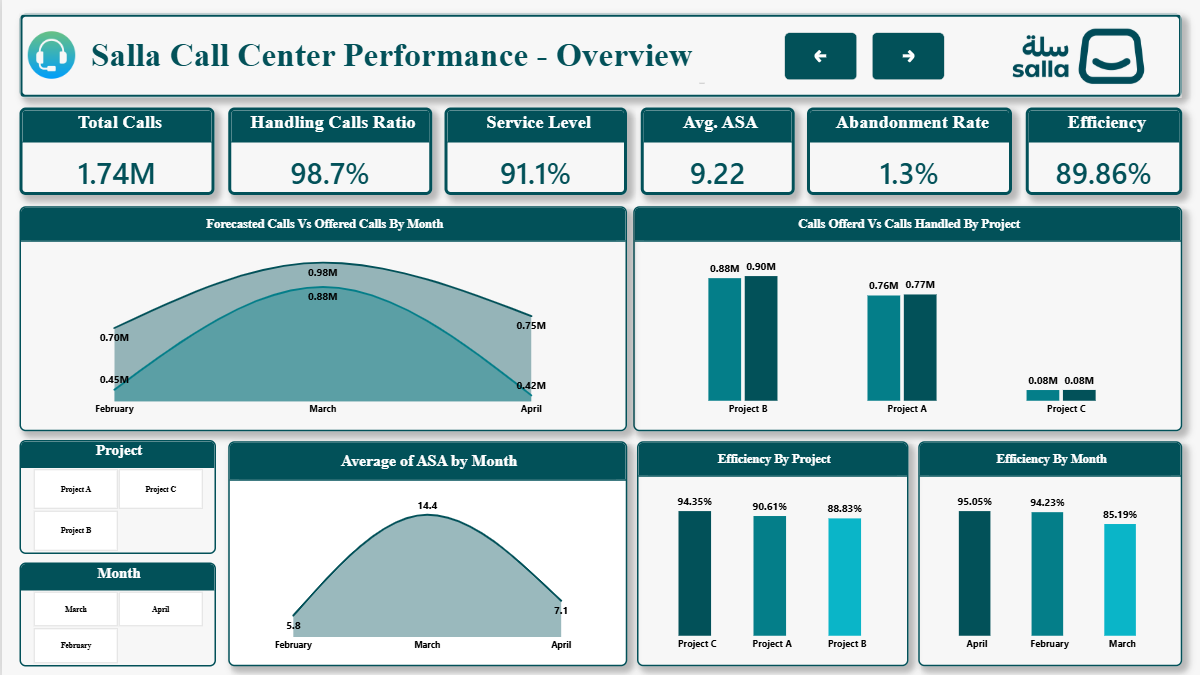

This screenshot's page, from the dashboard's own definition file:
{"tool":"powerbi","page":{"name":"Overview","canvas":[1920,1080],"ordinal":1},"visuals":[{"type":"cardVisual","title":"Handling Calls Ratio","fields":{"Data":["_Measure.Handlling Calls Ratio"]},"box":[361.2,172,326,140],"z":0},{"type":"cardVisual","title":"Service Level","fields":{"Data":["_Measure.Serves Level"]},"box":[708.4,172,292,140],"z":1000},{"type":"shape","box":[28,22,1860,134],"z":2000},{"type":"cardVisual","title":"Abandonment Rate","fields":{"Data":["_Measure.ABD Rate"]},"box":[1288.8,172,328,140],"z":3000},{"type":"cardVisual","title":"Avg. ASA","fields":{"Data":["Avg(Sallah.ASA)"]},"box":[1021.6,172,246,140],"z":4000},{"type":"textbox","title":"Salla Call Center Performance - Overview","box":[124,58,1000,76],"z":5000},{"type":"image","box":[34.4,50,90,76],"z":6000},{"type":"image","box":[1556,18,332,144],"z":7000},{"type":"cardVisual","title":"Total Calls","fields":{"Data":["Sum(Sallah.Calls Offered)"]},"box":[28,172,312,140],"z":8000},{"type":"clusteredColumnChart","title":"Calls Offerd Vs Calls Handled By Project","fields":{"Category":["Sallah.Project"],"Y":["Sum(Sallah.Calls Handled)","Sum(Sallah.Calls Offered)"]},"box":[1010,330,878,360],"z":9000},{"type":"cardVisual","title":"Efficiency","fields":{"Data":["_Measure.Efficiency"]},"box":[1638,172,250,140],"z":10000},{"type":"areaChart","title":"Forecasted Calls Vs Offered Calls By Month","fields":{"Category":["Sallah.Date.Variation.Date Hierarchy.Month","Sallah.Day Name"],"Y":["Sum(Sallah.Forecasted Calls)","Sum(Sallah.Calls Offered)"]},"box":[28,330,972,360],"z":11000},{"type":"areaChart","fields":{"Category":["Sallah.Date.Variation.Date Hierarchy.Month","Sallah.Day Name"],"Y":["Avg(Sallah.ASA)"]},"box":[362,706,638,360],"z":12000},{"type":"columnChart","title":"Efficiency By Project","fields":{"Category":["Sallah.Project"],"Y":["_Measure.Efficiency"]},"box":[1016,706,434,360],"z":13000},{"type":"columnChart","title":"Efficiency By Month","fields":{"Category":["Sallah.Date.Variation.Date Hierarchy.Month"],"Y":["_Measure.Efficiency"]},"box":[1466,706,422,360],"z":14000},{"type":"slicer","title":"Month","fields":{"Values":["Sallah.Month Name"]},"box":[28,900,314,166],"z":15000},{"type":"slicer","title":"Project","fields":{"Values":["Sallah.Project"]},"box":[28,704,314,182],"z":16000},{"type":"actionButton","box":[1392,52,116,76],"z":17000},{"type":"actionButton","box":[1252,52,116,76],"z":18000}]}

Visuals, with their boxes in screenshot pixels (x1, y1, x2, y2), scaled from the page's 1920x1080 canvas onto the 1200x675 screenshot:
"Handling Calls Ratio" cardVisual: 226, 108, 430, 195
"Service Level" cardVisual: 443, 108, 625, 195
shape: 18, 14, 1180, 98
"Abandonment Rate" cardVisual: 806, 108, 1010, 195
"Avg. ASA" cardVisual: 638, 108, 792, 195
"Salla Call Center Performance - Overview" textbox: 78, 36, 702, 84
image: 22, 31, 78, 79
image: 972, 11, 1180, 101
"Total Calls" cardVisual: 18, 108, 212, 195
"Calls Offerd Vs Calls Handled By Project" clusteredColumnChart: 631, 206, 1180, 431
"Efficiency" cardVisual: 1024, 108, 1180, 195
"Forecasted Calls Vs Offered Calls By Month" areaChart: 18, 206, 625, 431
areaChart - Sallah.Date.Variation.Date Hierarchy.Month x Sallah.Day Name: 226, 441, 625, 666
"Efficiency By Project" columnChart: 635, 441, 906, 666
"Efficiency By Month" columnChart: 916, 441, 1180, 666
"Month" slicer: 18, 562, 214, 666
"Project" slicer: 18, 440, 214, 554
actionButton: 870, 32, 942, 80
actionButton: 782, 32, 855, 80
